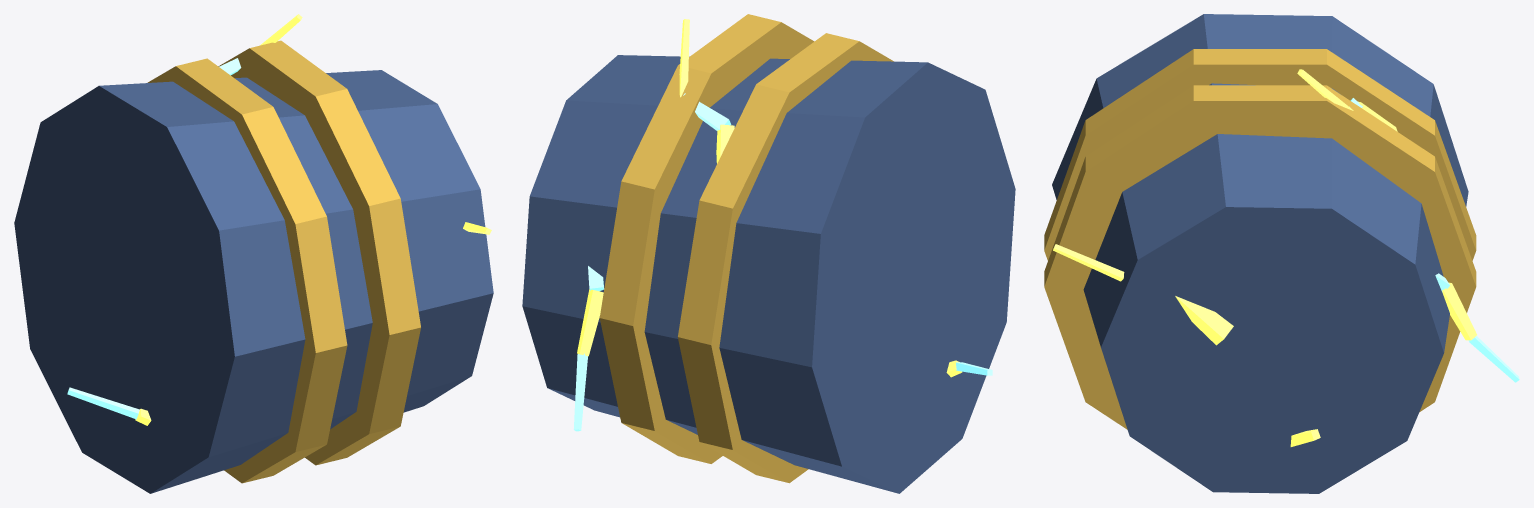
The model's file is vorlaug_arm_l.glb.
3 renders of one model, left to right at view 1: azimuth 30°, elevation 25°; view 2: azimuth 150°, elevation 25°; view 3: azimuth 270°, elevation 25°, orthographic. The views are drawn at different scales.
Visible parts, largest first — view 1: vorlaug_arm_l; view 2: vorlaug_arm_l; view 3: vorlaug_arm_l.
Part boxes in pixels (<box>): vorlaug_arm_l: <box>14,14,493,493</box>; vorlaug_arm_l: <box>522,14,1015,493</box>; vorlaug_arm_l: <box>1044,14,1519,493</box>.
Bounding box in the file's own units: 0.3519 × 0.3654 × 0.3874.
